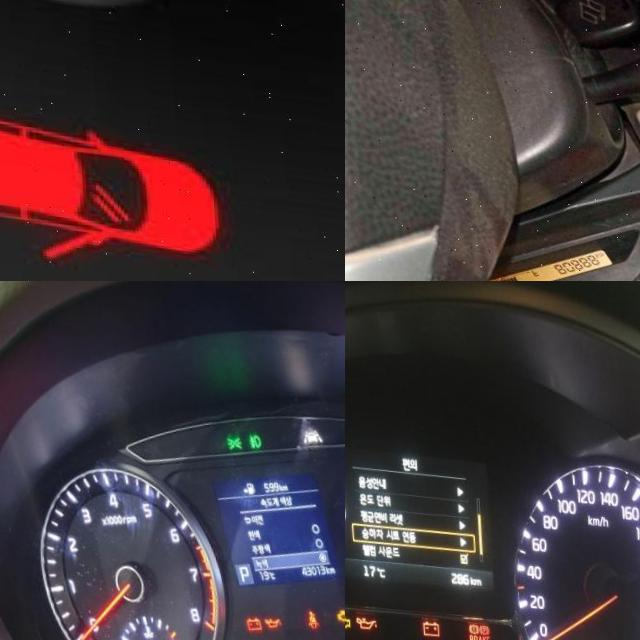FrontFogLight: (244, 424, 259, 442)
LaneCenteringOff: (297, 417, 320, 437)
SideLamp: (222, 427, 239, 444)
